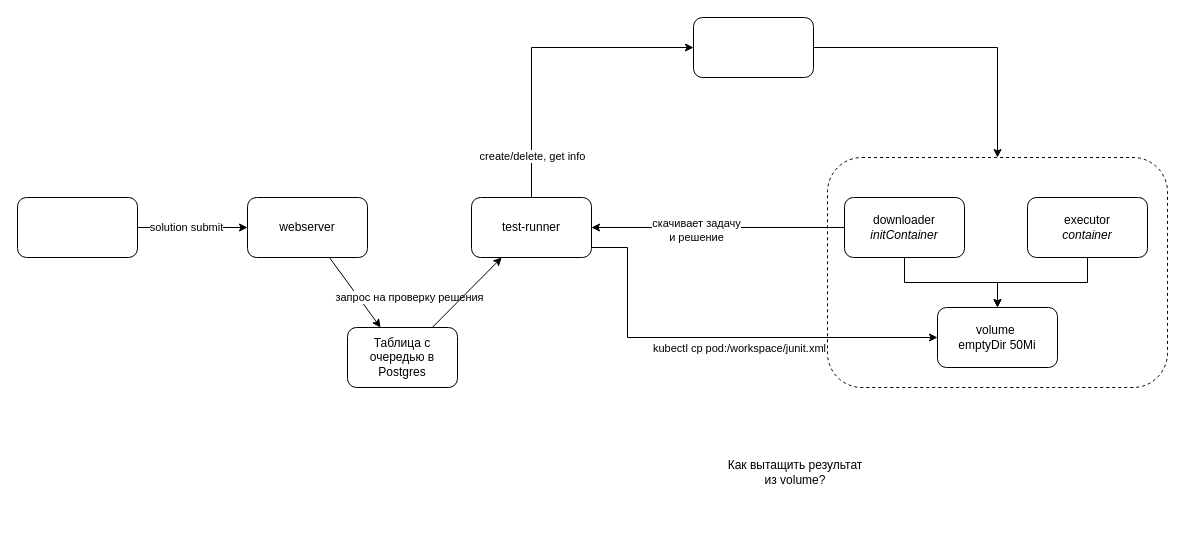
The diagram is 1185 pixels wide and 535 high, and some of its shapes have lost their labels. Here are the shapes that lost their labels. From the top down, the box of each, then its label:
(692, 16, 814, 78): KubeAPI
(16, 196, 138, 258): Frontend
(826, 156, 1168, 388): Test POD
